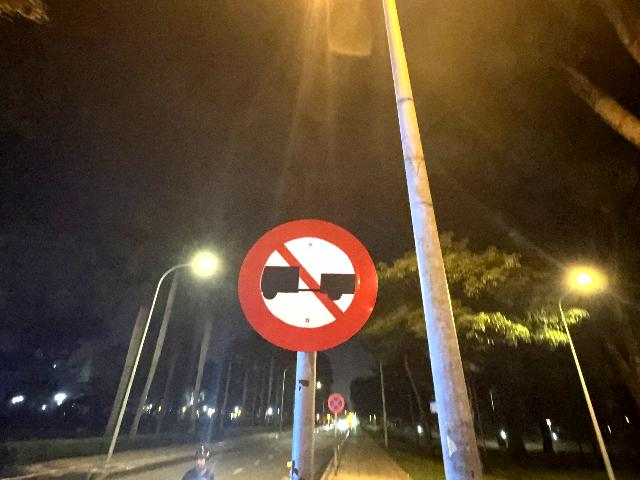cam-xe-somi-romooc: (237, 218, 379, 354)
